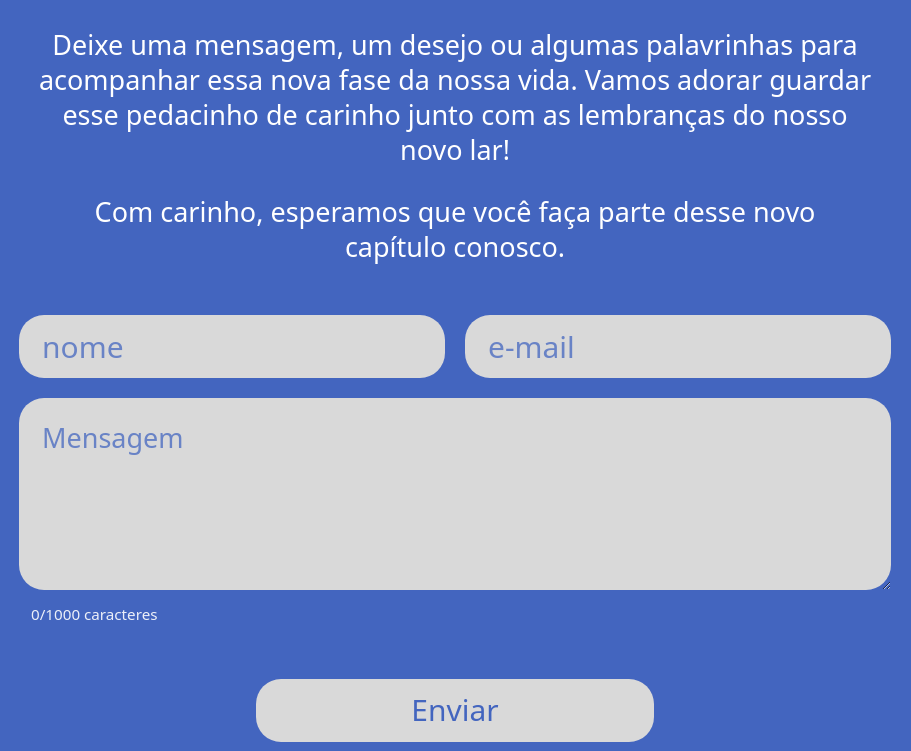
Scenario: mensagem › não envia mensagem vazia
The width and height of the screenshot is (911, 751).
(page scrolled)
Step 1. Type "Tia Lúcia" into the field labelled "nome" → point(232, 346), box top-left (19, 314), bottom-right (445, 378)
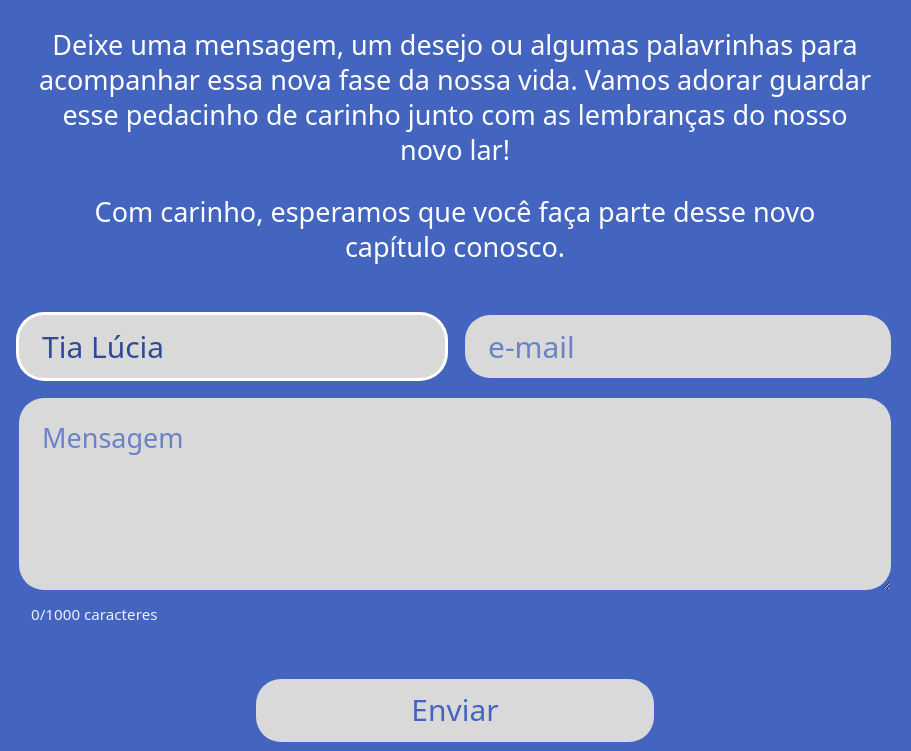
Step 2. Type "lucia@ex.com" into the field labelled "e-mail" → point(678, 346), box top-left (465, 314), bottom-right (891, 378)
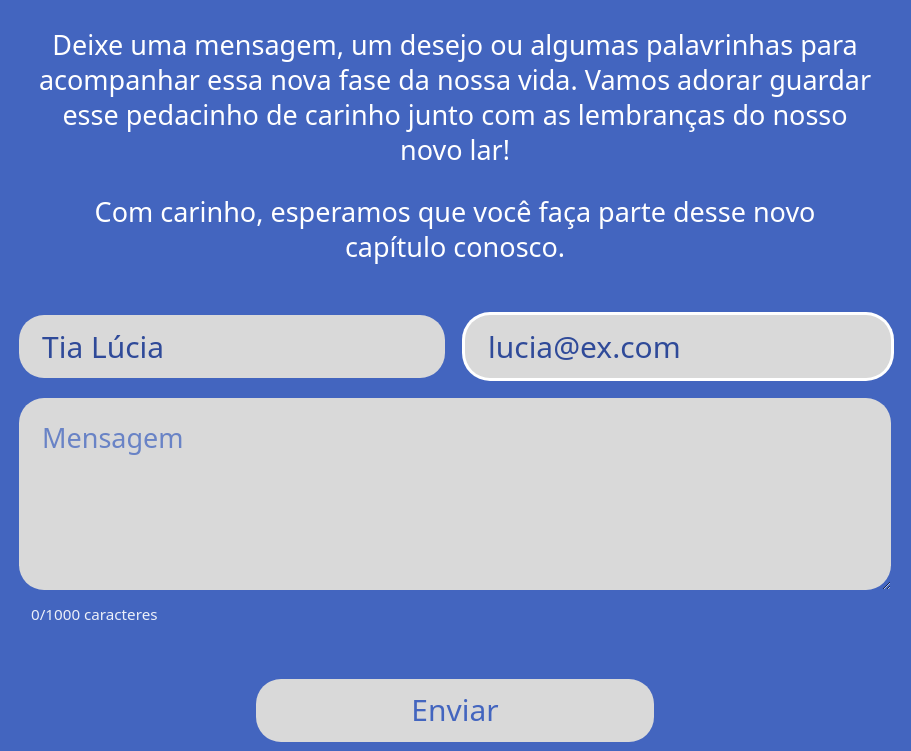
Step 3. Click the button "Enviar" → point(455, 710), box top-left (256, 679), bottom-right (654, 742)
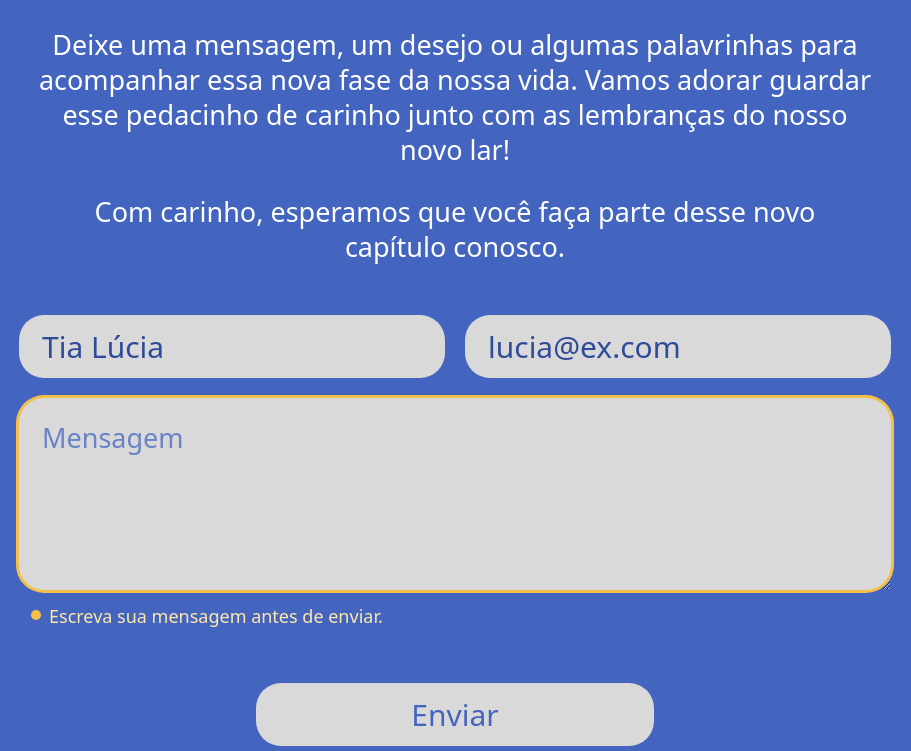
Check: the text "Escreva sua mensagem antes de enviar." is shown, box top-left (31, 604), bottom-right (383, 628)
